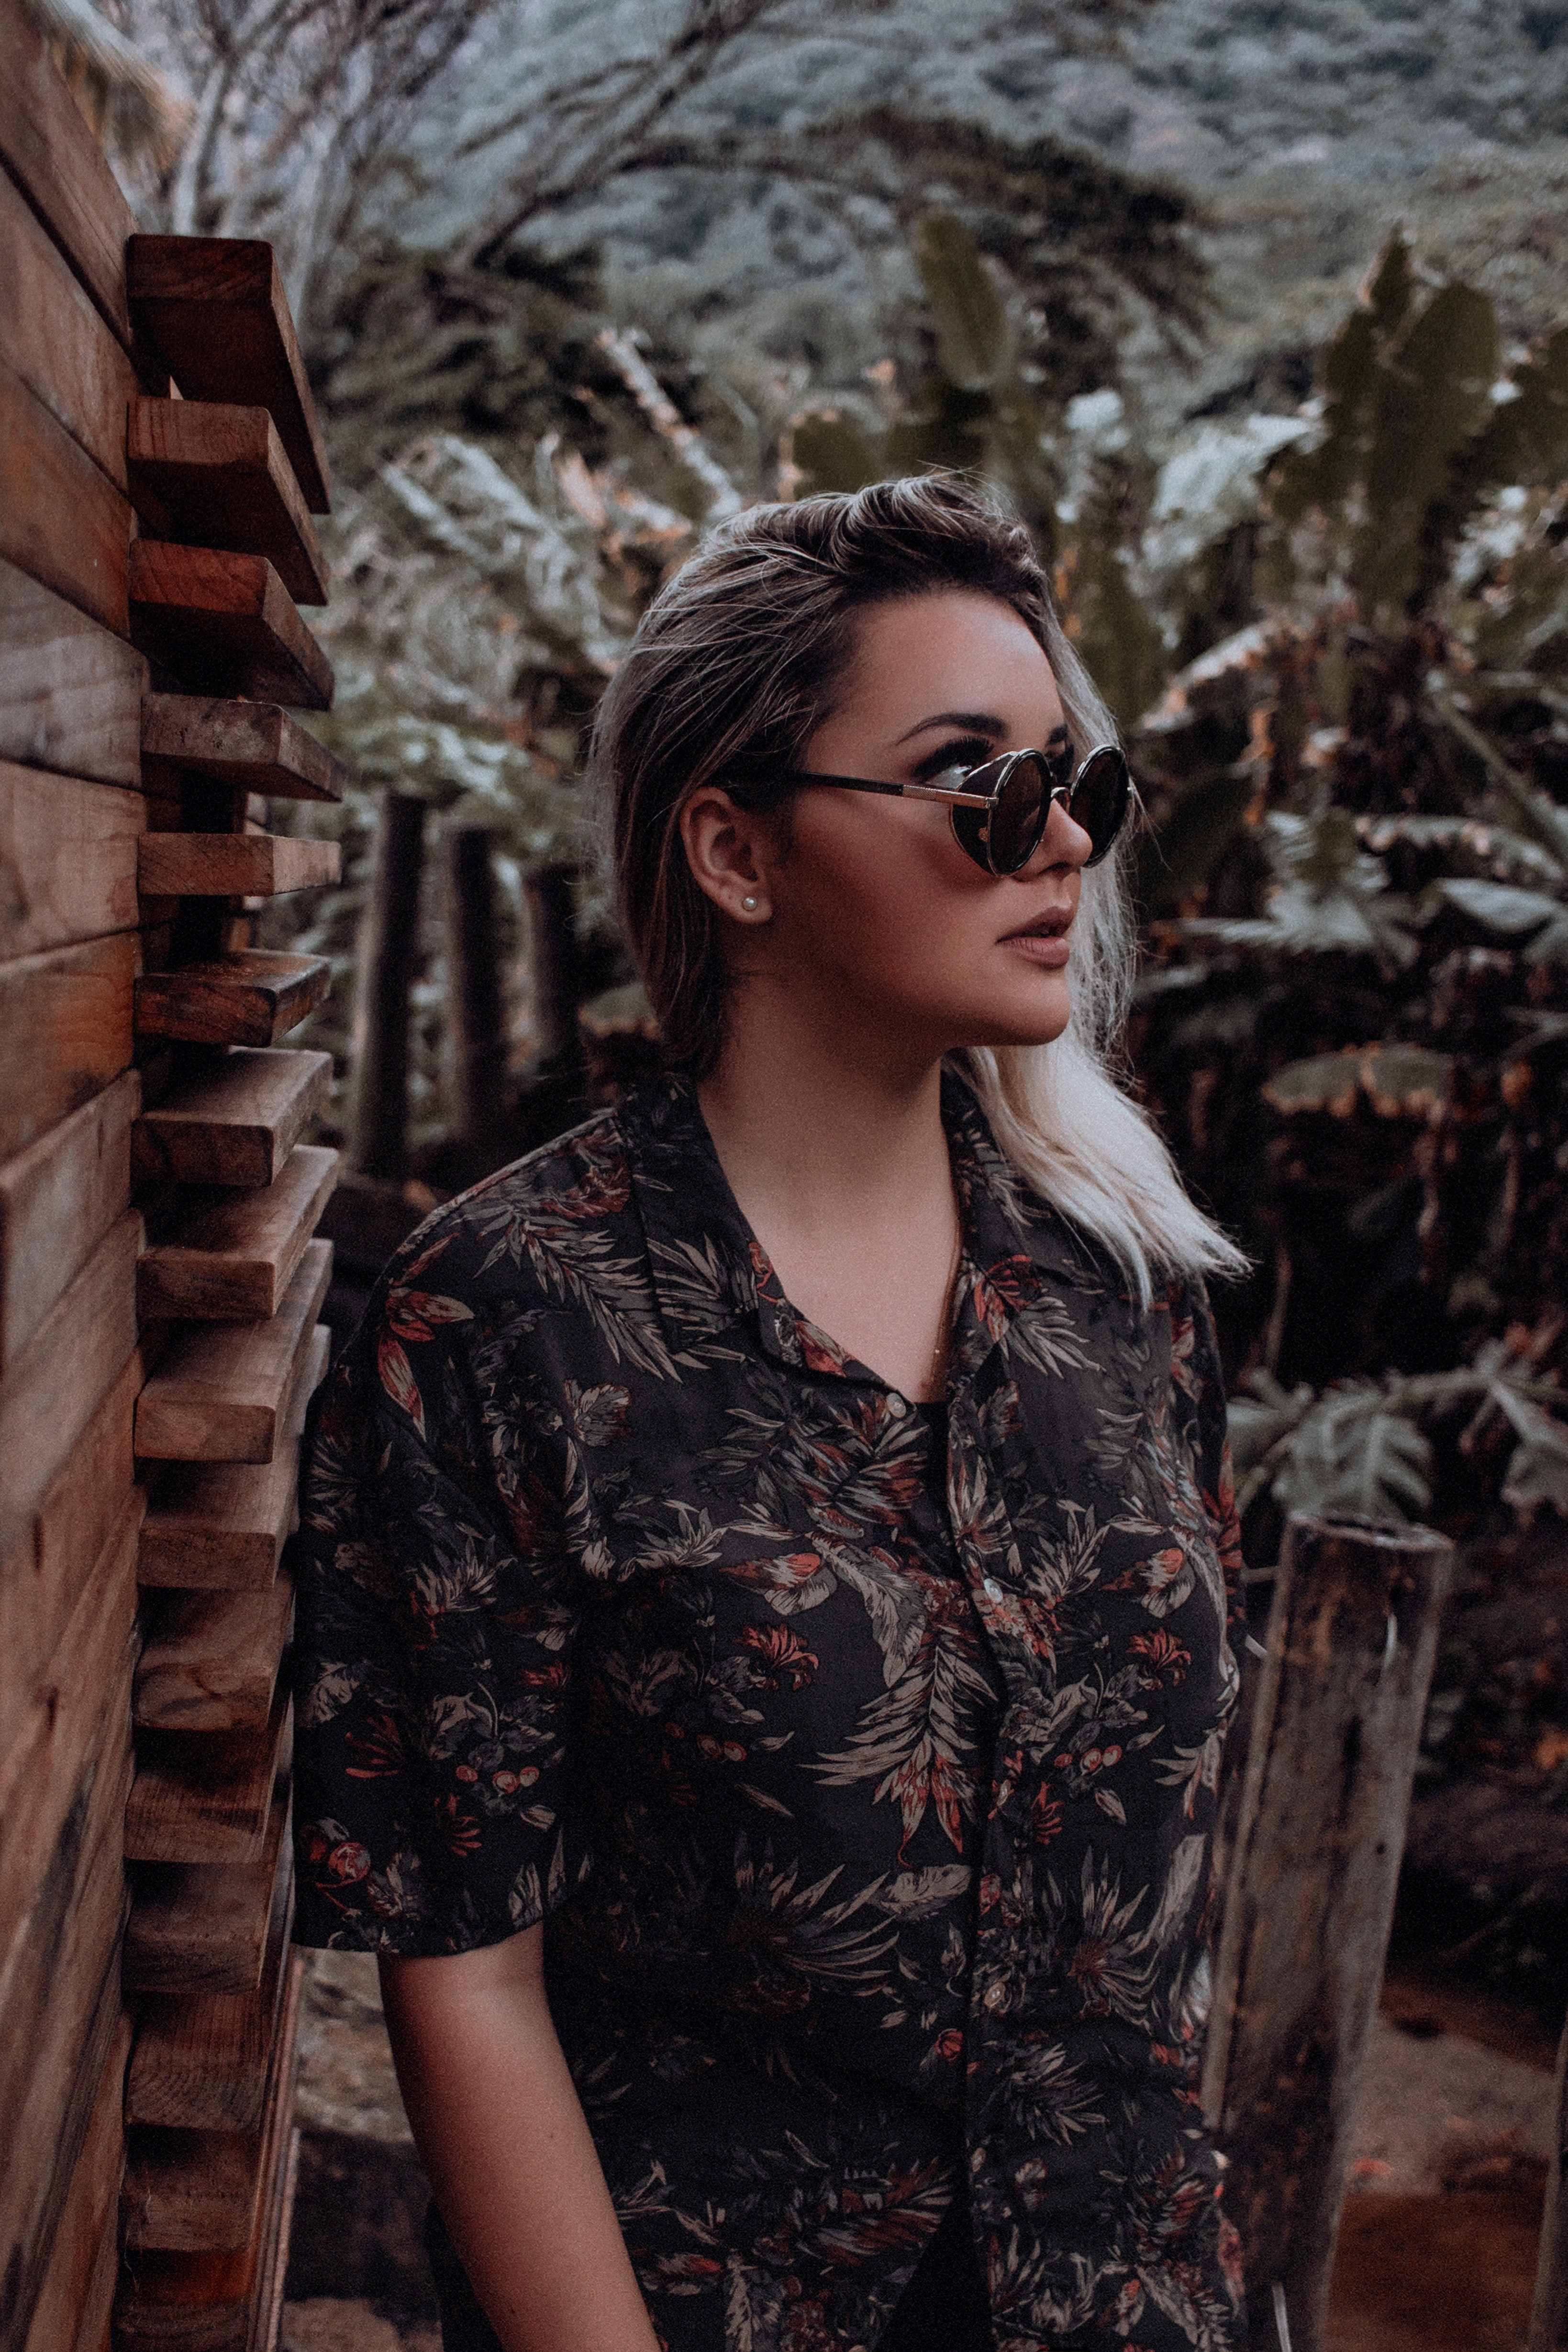face_no_mask: (681, 539, 1101, 1073)
